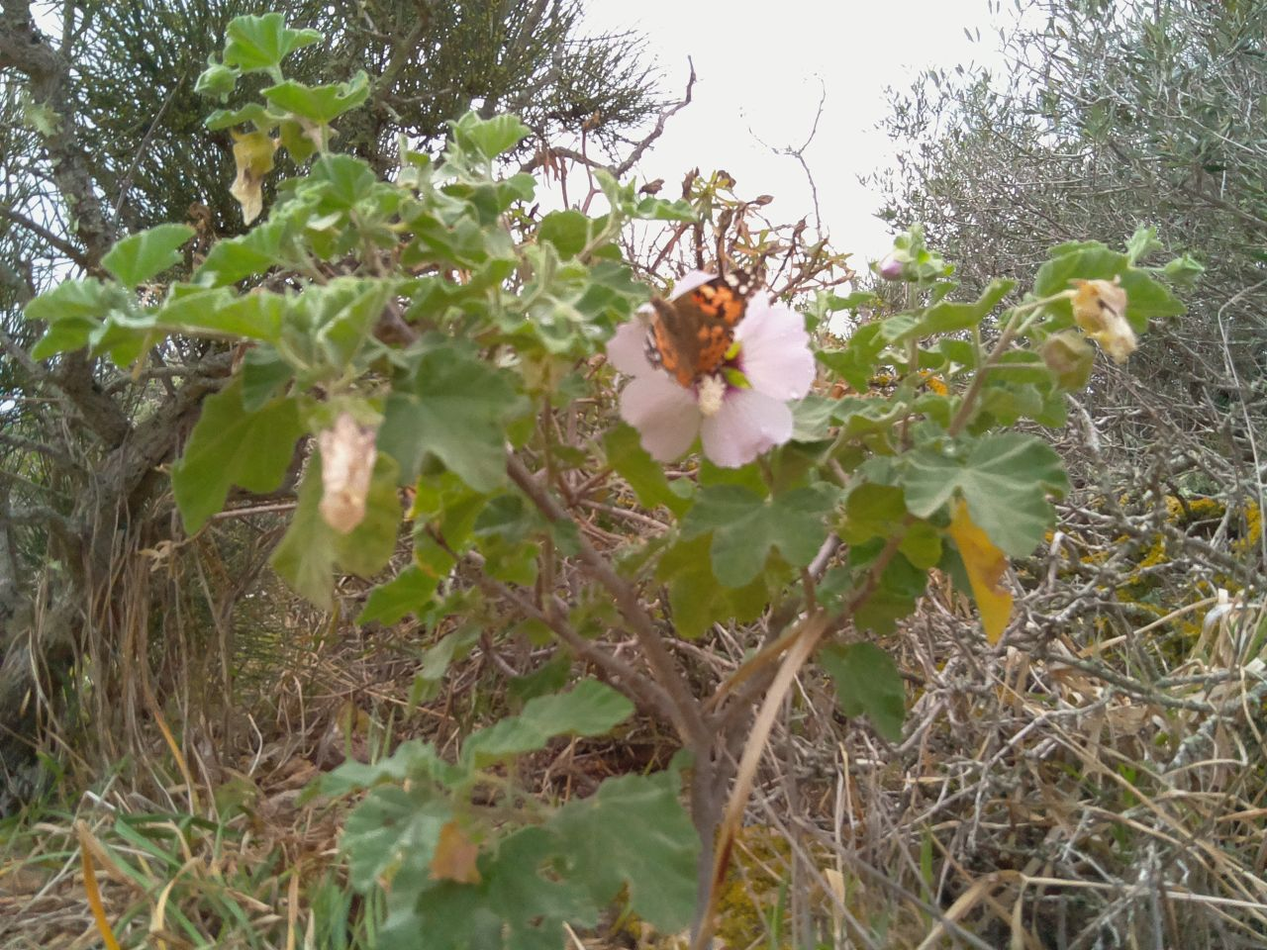Vanessa cardui: (621, 266, 774, 389)
